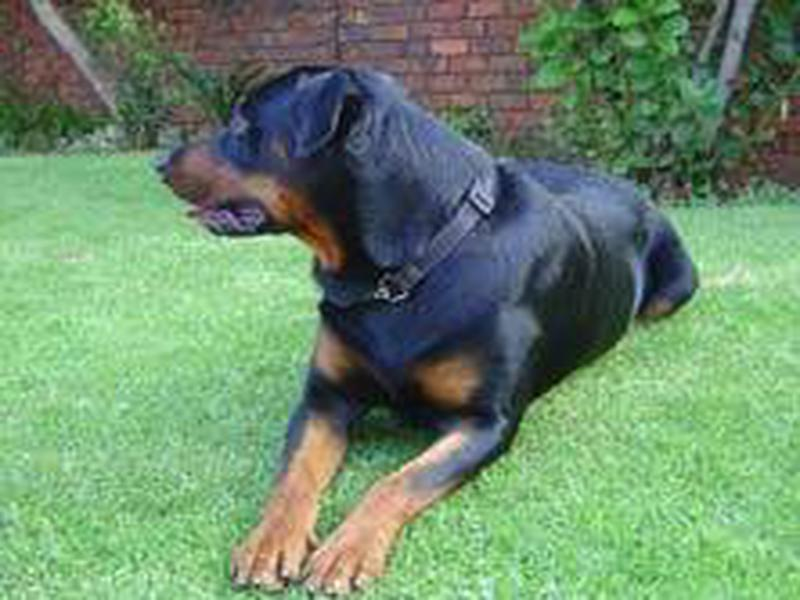dog_down: (160, 63, 704, 598)
